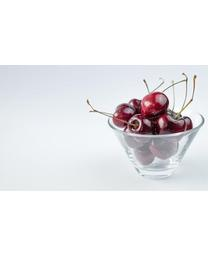cherry: (157, 111, 184, 142), (141, 92, 169, 115), (127, 114, 156, 136), (111, 104, 135, 127)
